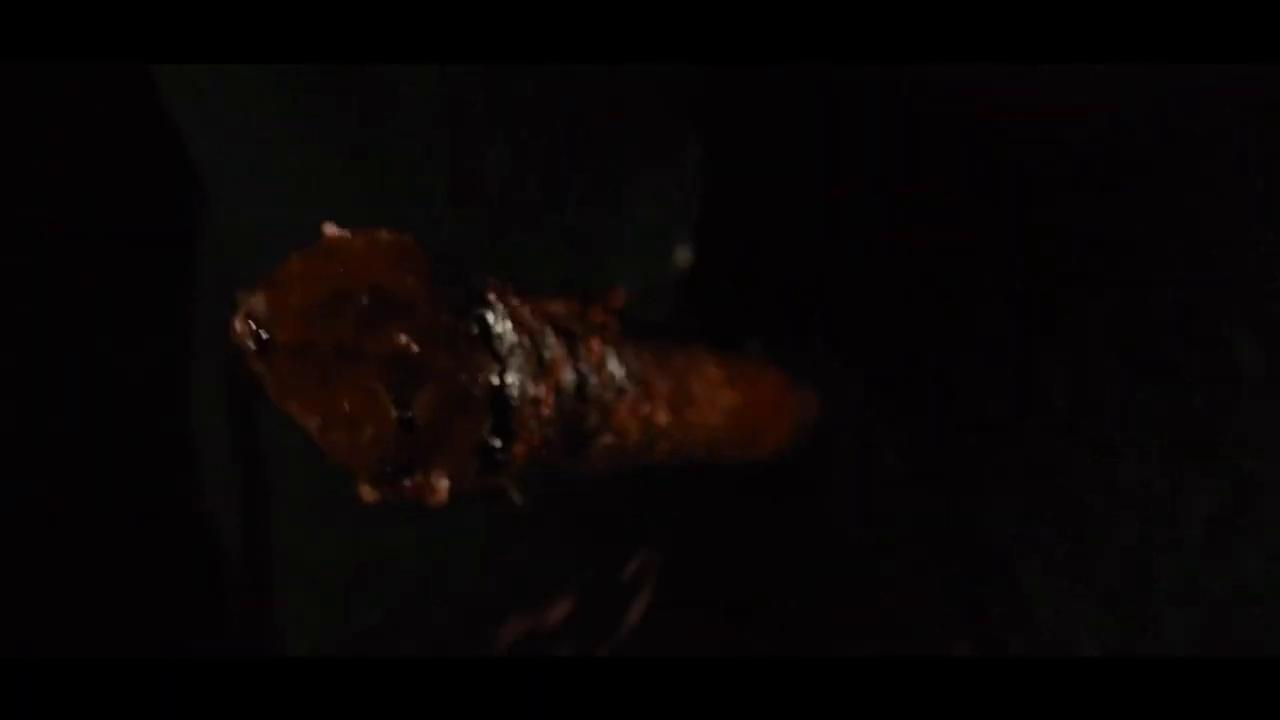Fire: (221, 220, 817, 512)
